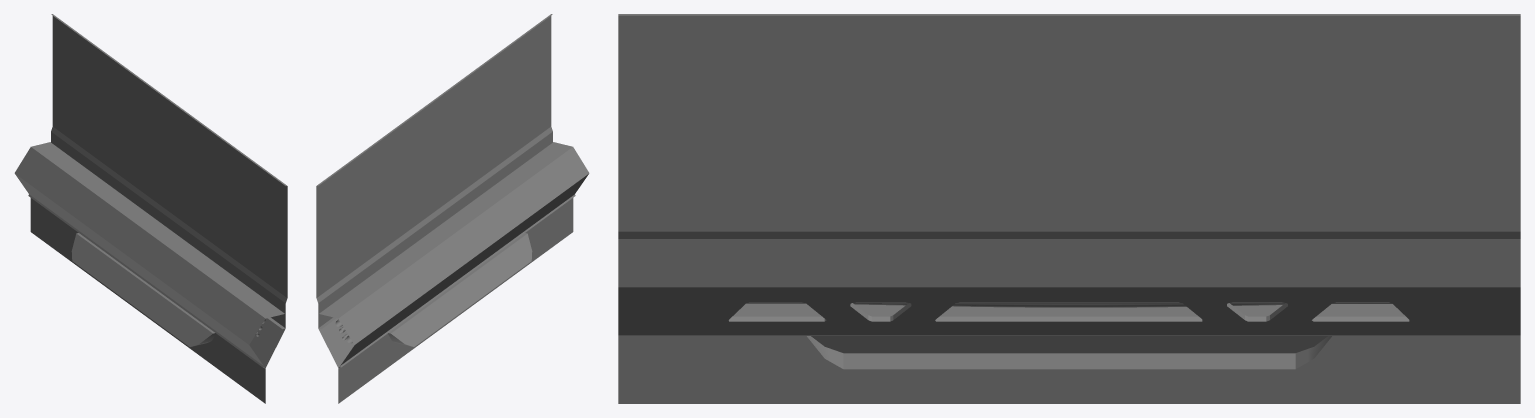
The model's file is q-scifi-mod-topcables-straight.glb.
3 renders of one model, left to right at view 1: azimuth 30°, elevation 25°; view 2: azimuth 150°, elevation 25°; view 3: azimuth 270°, elevation 25°, orthographic. The views are drawn at different scales.
Parts seen in each view (by area): view 1: TopCables_Straight; view 2: TopCables_Straight; view 3: TopCables_Straight.
Boxes of the visible parts, x1=… form: TopCables_Straight: x1=14, y1=14, x2=287, y2=403; TopCables_Straight: x1=316, y1=14, x2=589, y2=403; TopCables_Straight: x1=618, y1=14, x2=1520, y2=403.
Size of the model in its own units: 0.3839 by 2 by 4.
4 materials, 4 textured.
